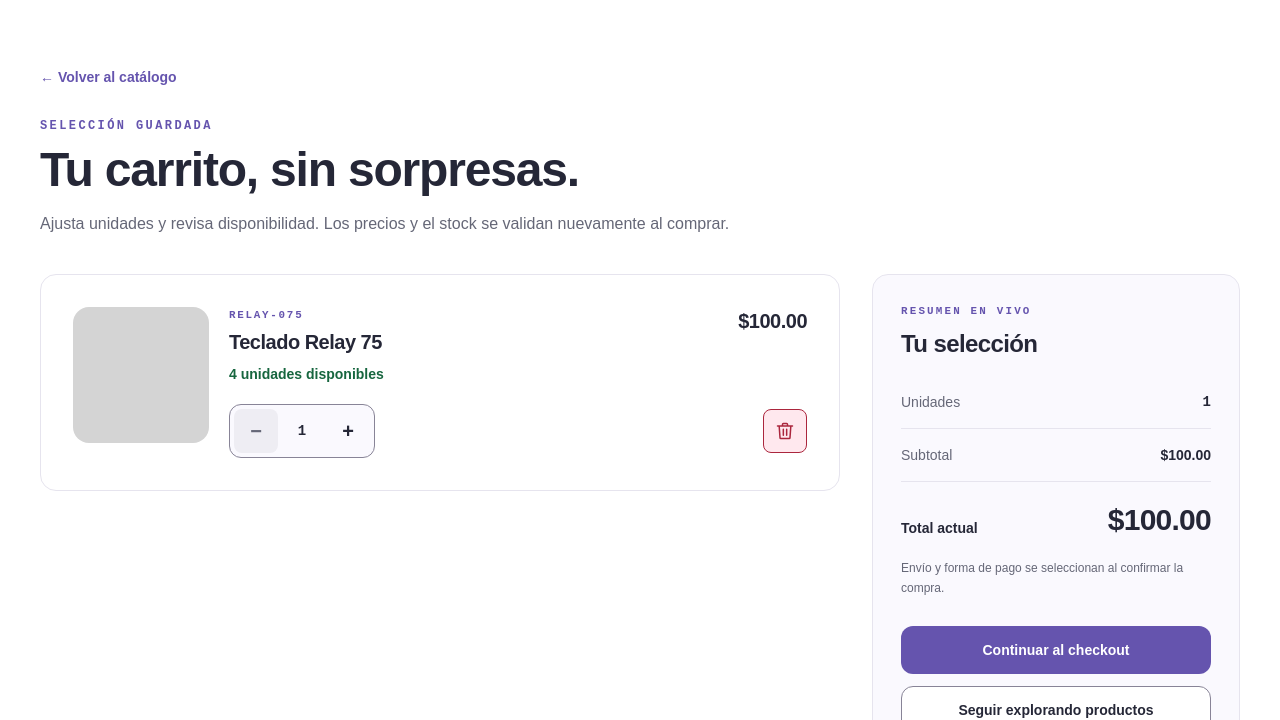
it: storefront cart › cancels removal without sending a request
Click the button named "Quitar Teclado Relay 75 del carrito": (785,431) [763, 409, 807, 453]
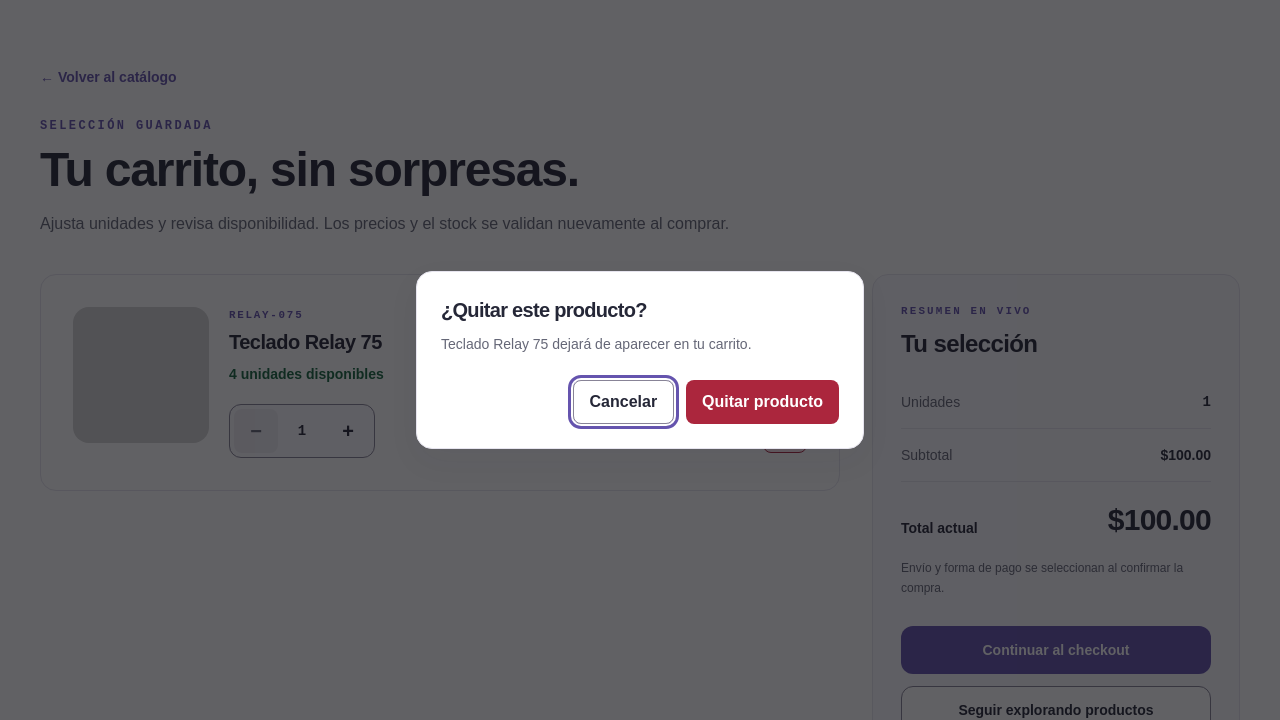
Now the dialog "¿Quitar este producto?" shows "Teclado Relay 75", box [441, 336, 752, 352]
Click the button "Cancelar": (623,402) [572, 380, 674, 424]
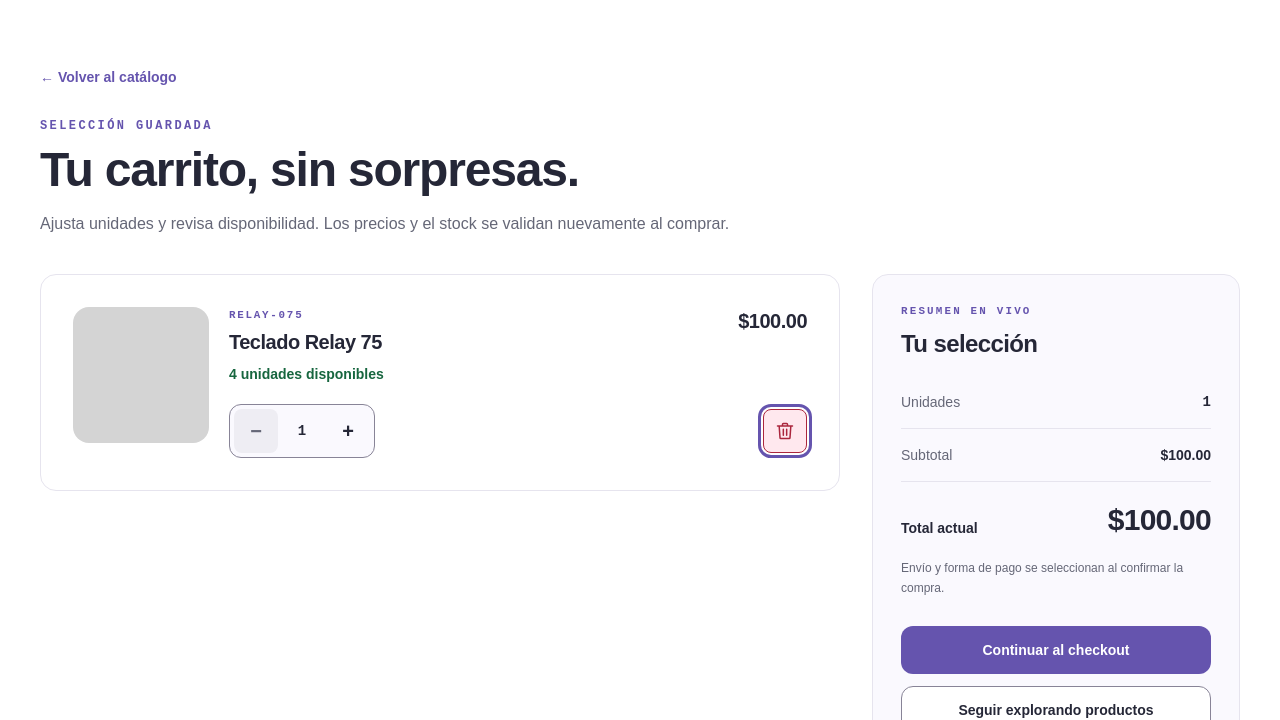
Now the dialog is gone
